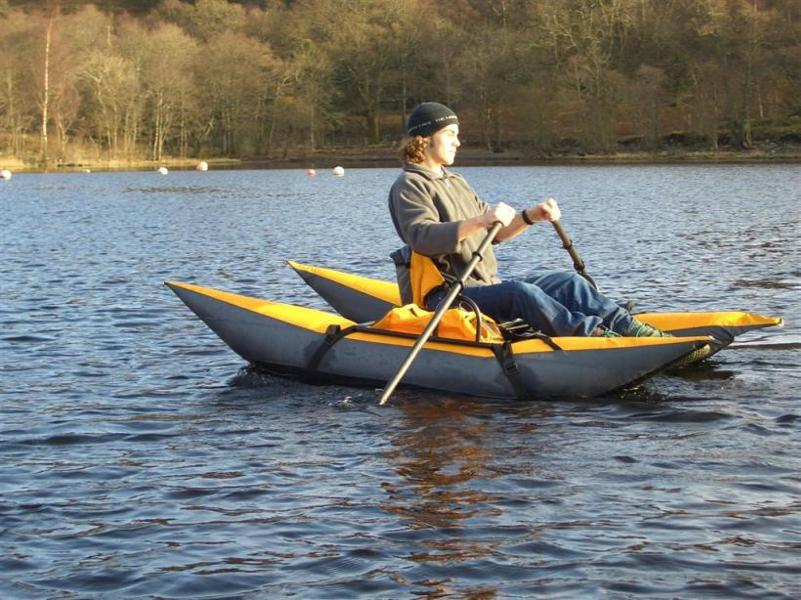person: (387, 98, 672, 343)
